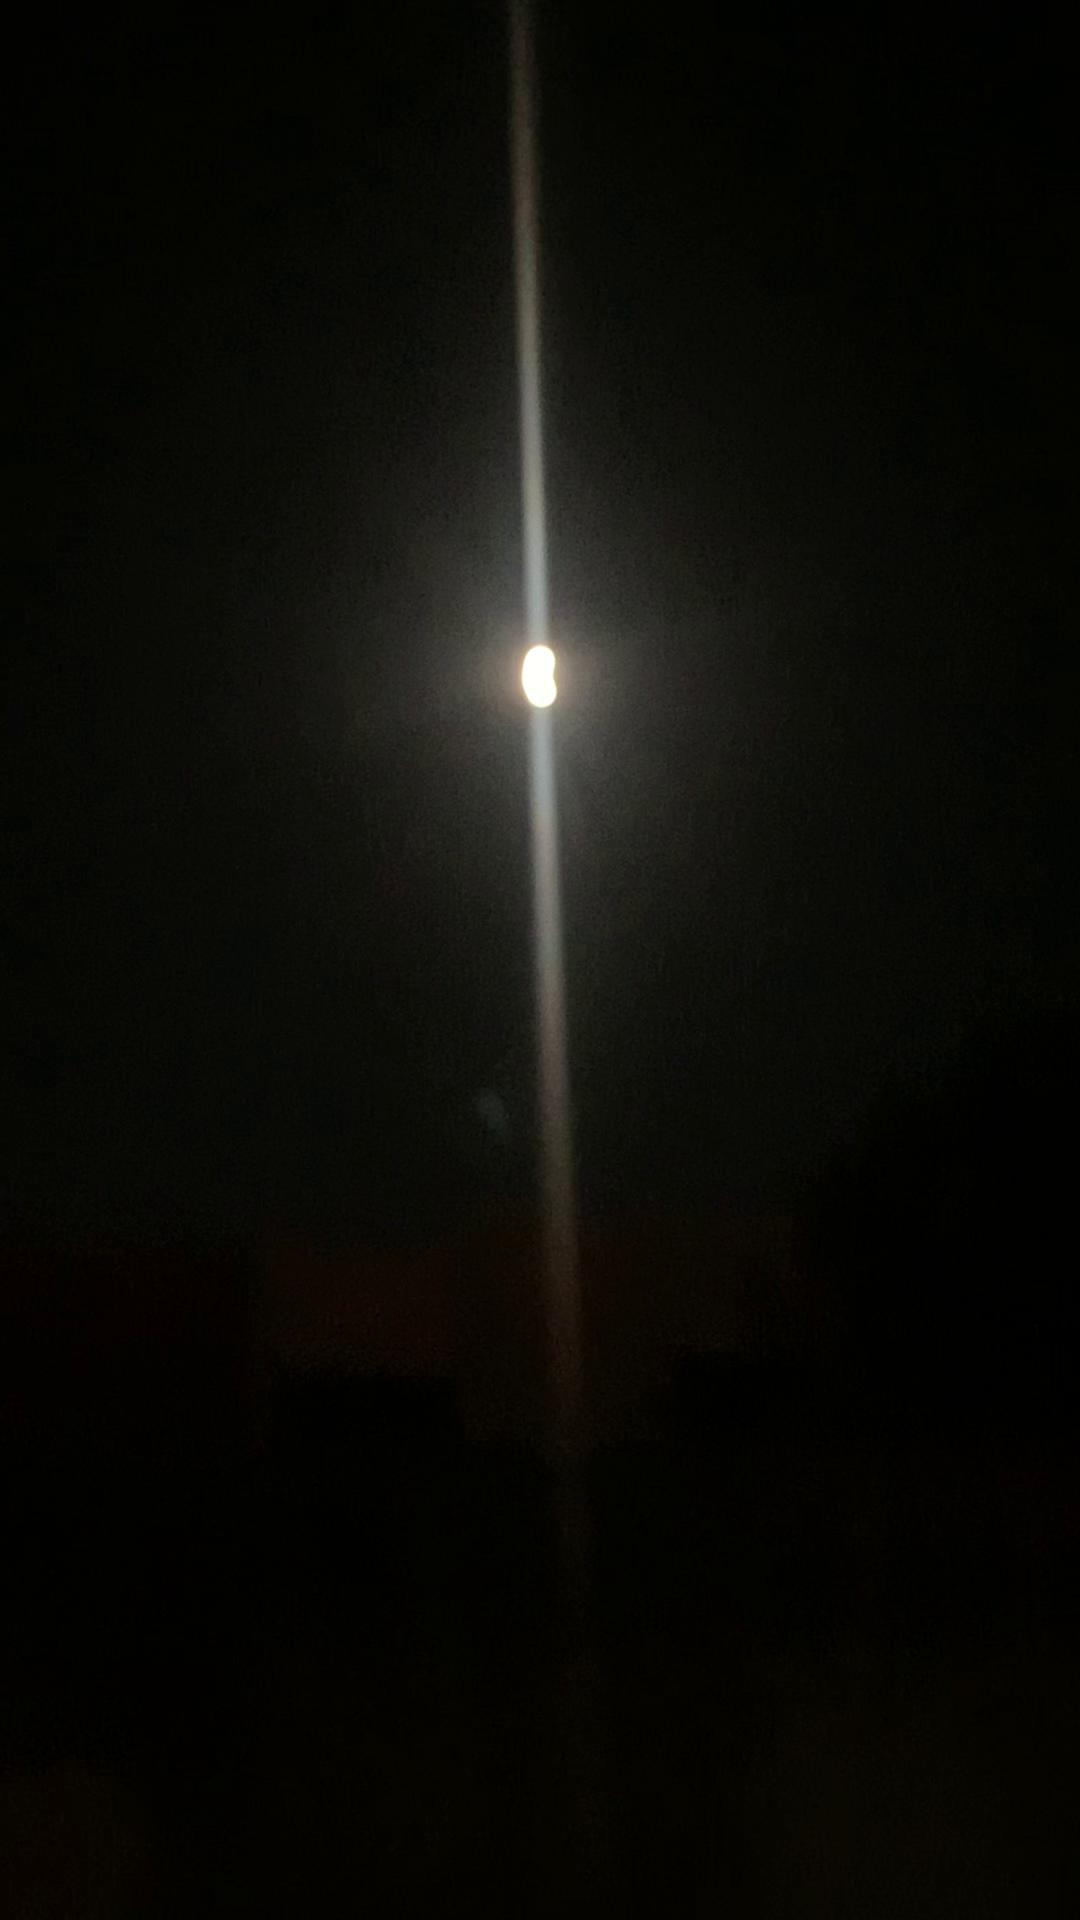moon: (495, 633, 603, 732)
